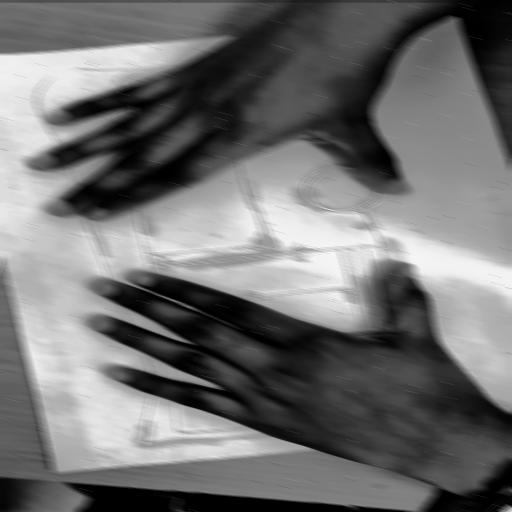bottom_right: (444, 10, 465, 20)
bus: (22, 0, 465, 512)
top_left: (47, 467, 62, 476)
